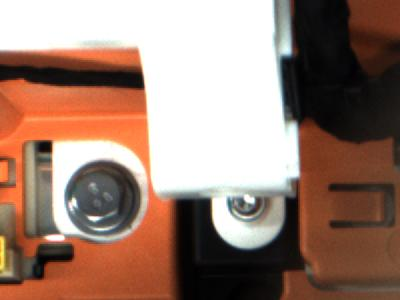nut_b: (62, 166, 140, 238)
